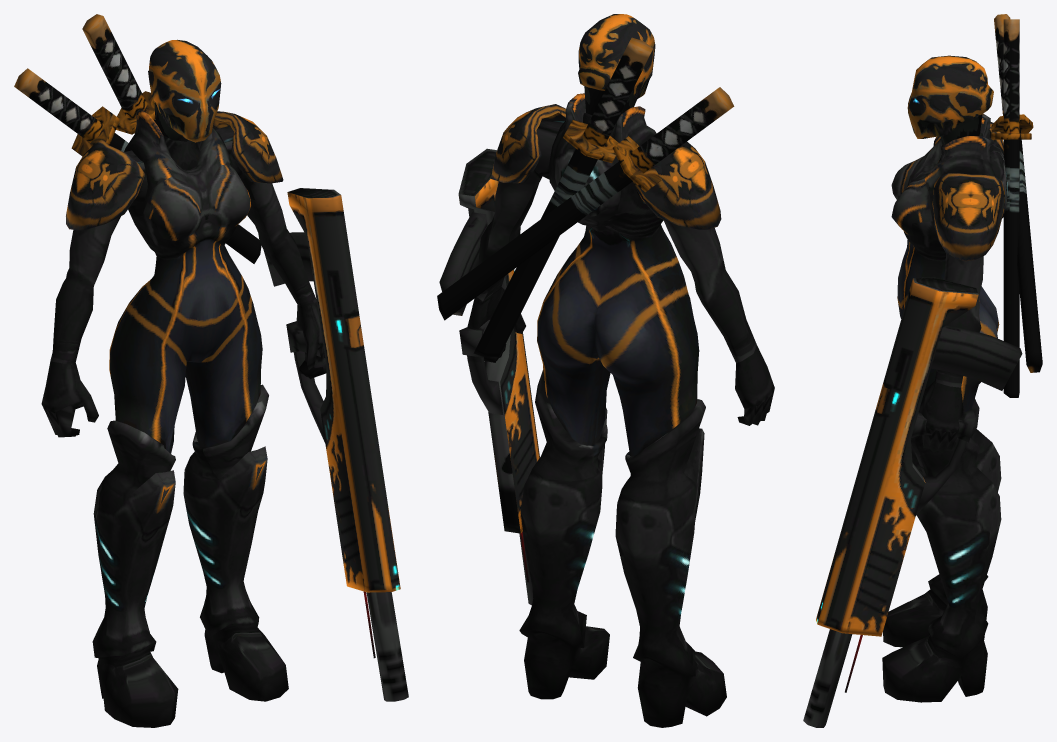
The model's file is Ghost_Mengsk_COOP.glb.
The picture shows the model from 3 angles, left to right: view 1: azimuth 30°, elevation 25°; view 2: azimuth 150°, elevation 25°; view 3: azimuth 270°, elevation 25°; orthographic projection. The views are drawn at different scales.
Visible parts, largest first — view 1: Mesh; view 2: Mesh; view 3: Mesh.
Boxes of the visible parts, x1=… form: Mesh: x1=14, y1=14, x2=408, y2=727; Mesh: x1=437, y1=14, x2=774, y2=727; Mesh: x1=803, y1=14, x2=1042, y2=727.
Bounding box in the file's own units: 0.4906 × 1.05 × 0.3657.
Materials: 2 (2 with a texture image).
